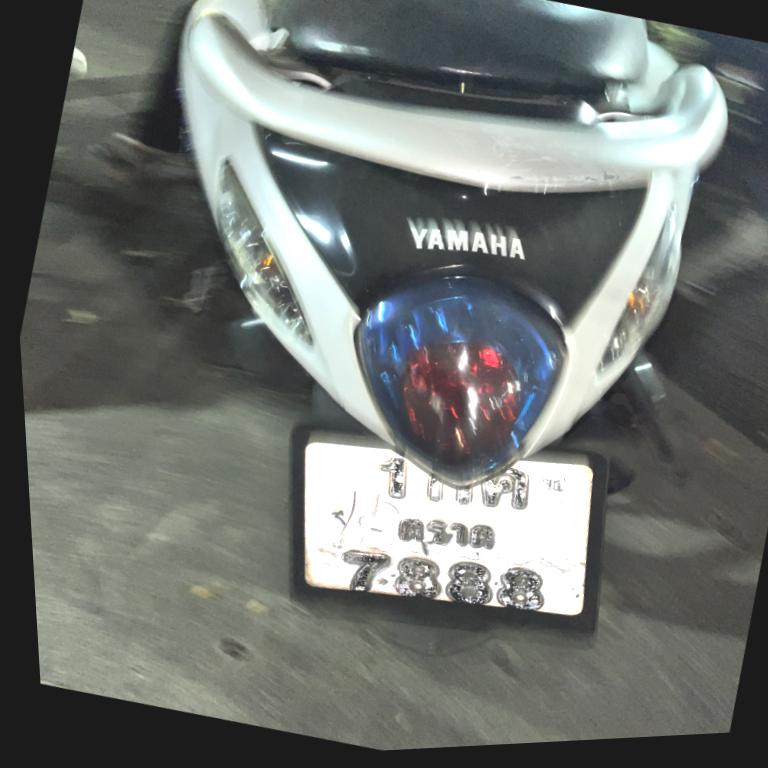license plate: (238, 387, 627, 660)
